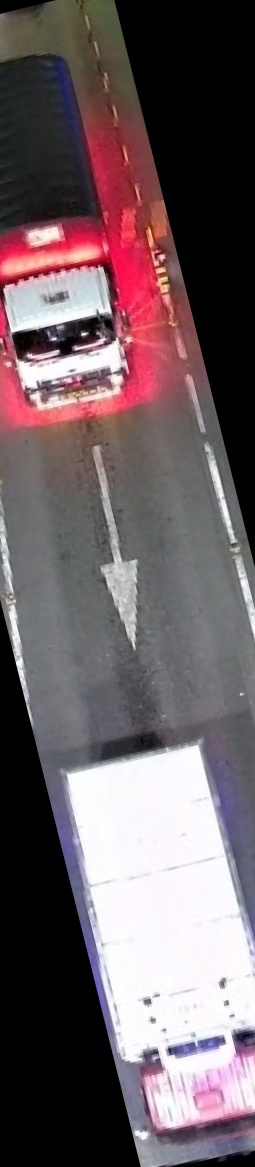truck: (50, 734, 255, 1154), (0, 52, 150, 420)
